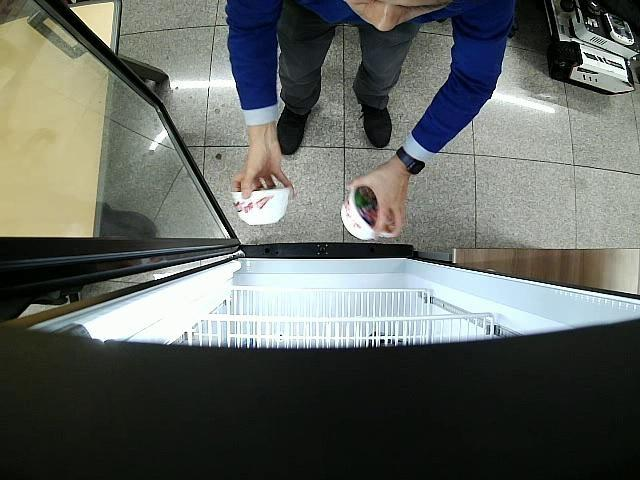09_yukGaeJang: (342, 185, 396, 240), (232, 188, 291, 224)
